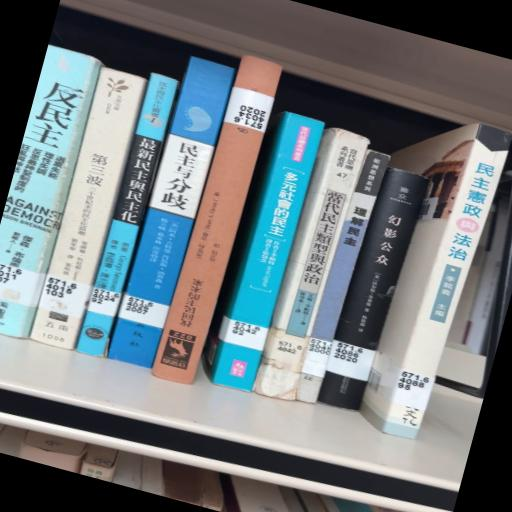book: (360, 124, 512, 440), (109, 58, 235, 368), (205, 113, 325, 392), (31, 68, 148, 350), (254, 129, 370, 401), (1, 46, 104, 339), (78, 74, 179, 357), (318, 168, 429, 411), (296, 150, 390, 404), (58, 55, 72, 73)
reverse: (152, 56, 282, 384)
